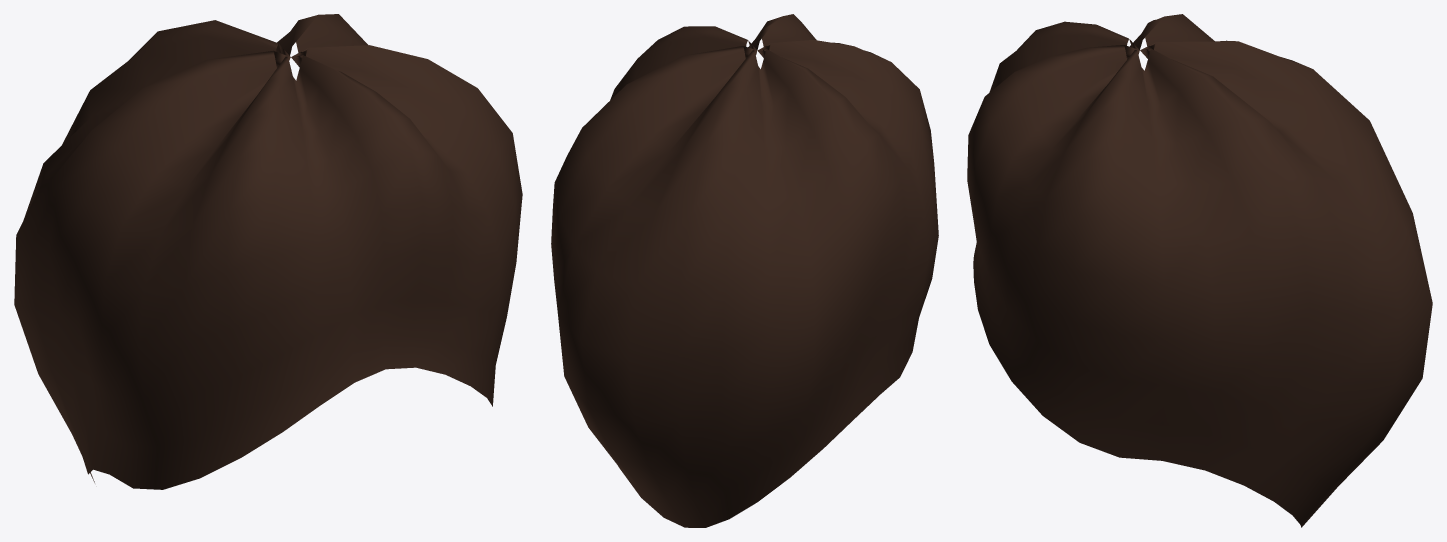
Rendered from afro.glb.
The picture shows the model from 3 angles, left to right: view 1: azimuth 30°, elevation 25°; view 2: azimuth 150°, elevation 25°; view 3: azimuth 270°, elevation 25°; orthographic projection. The views are drawn at different scales.
Parts seen in each view (by area): view 1: hair-afro; view 2: hair-afro; view 3: hair-afro.
Boxes of the visible parts, x1=… form: hair-afro: x1=14, y1=14, x2=522, y2=489; hair-afro: x1=551, y1=14, x2=938, y2=527; hair-afro: x1=967, y1=14, x2=1432, y2=527.
Size of the model in its own units: 0.2077 by 0.2651 by 0.2334.
